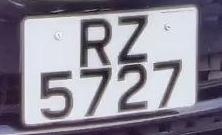2: (114, 61, 153, 117)
5: (34, 66, 78, 130)
7: (148, 55, 188, 114), (76, 66, 116, 122)
R: (70, 14, 118, 71)
Z: (112, 12, 155, 67)
